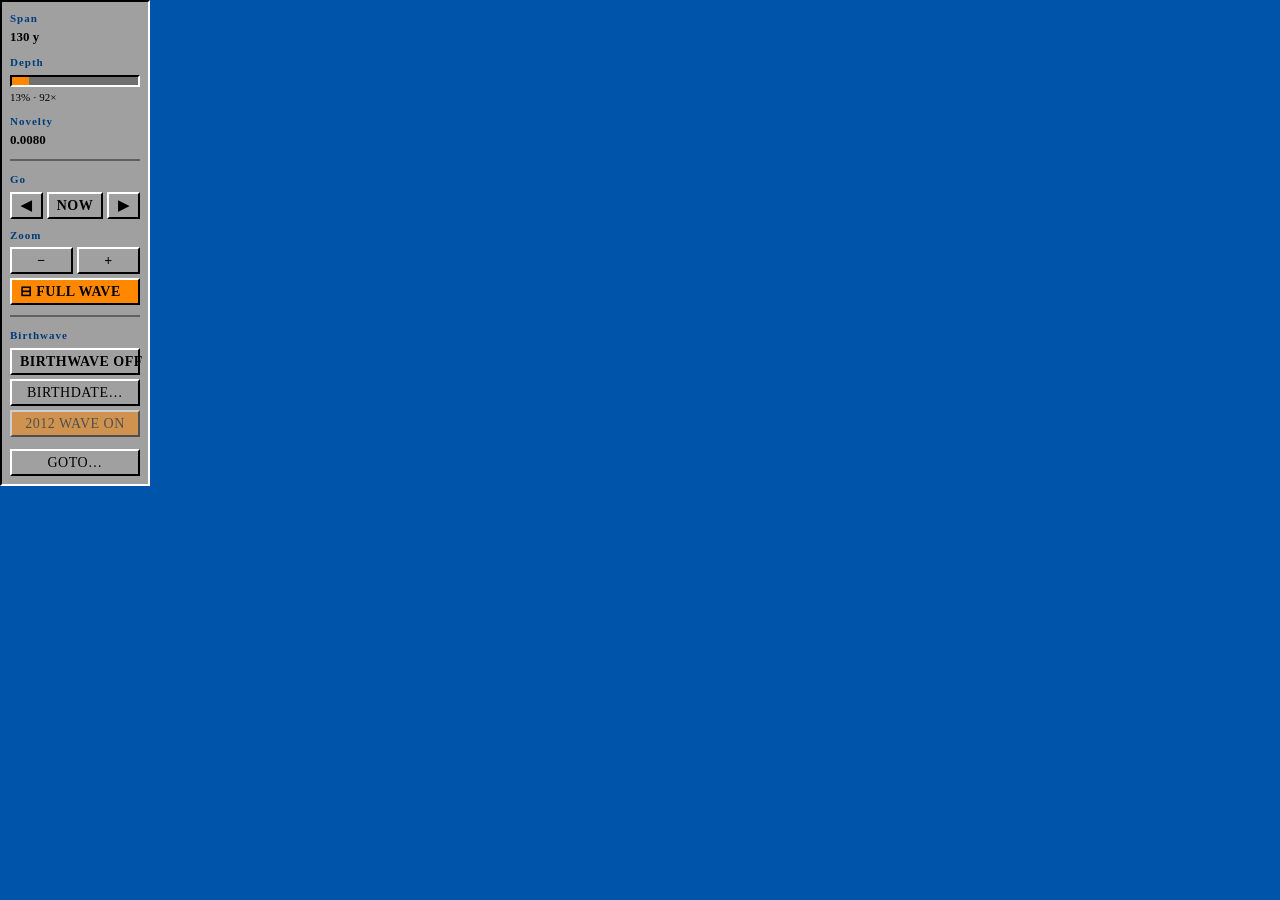
ChartDock birthwave controls › shows the BIRTHWAVE control and opens the picker when no birthday is set
The width and height of the screenshot is (1280, 900).
Expected: the text "Birthwave" is shown, x1=10 y1=329 x2=68 y2=341
Click the button "BIRTHDATE…" at [75, 392], box x1=10 y1=378 x2=140 y2=406
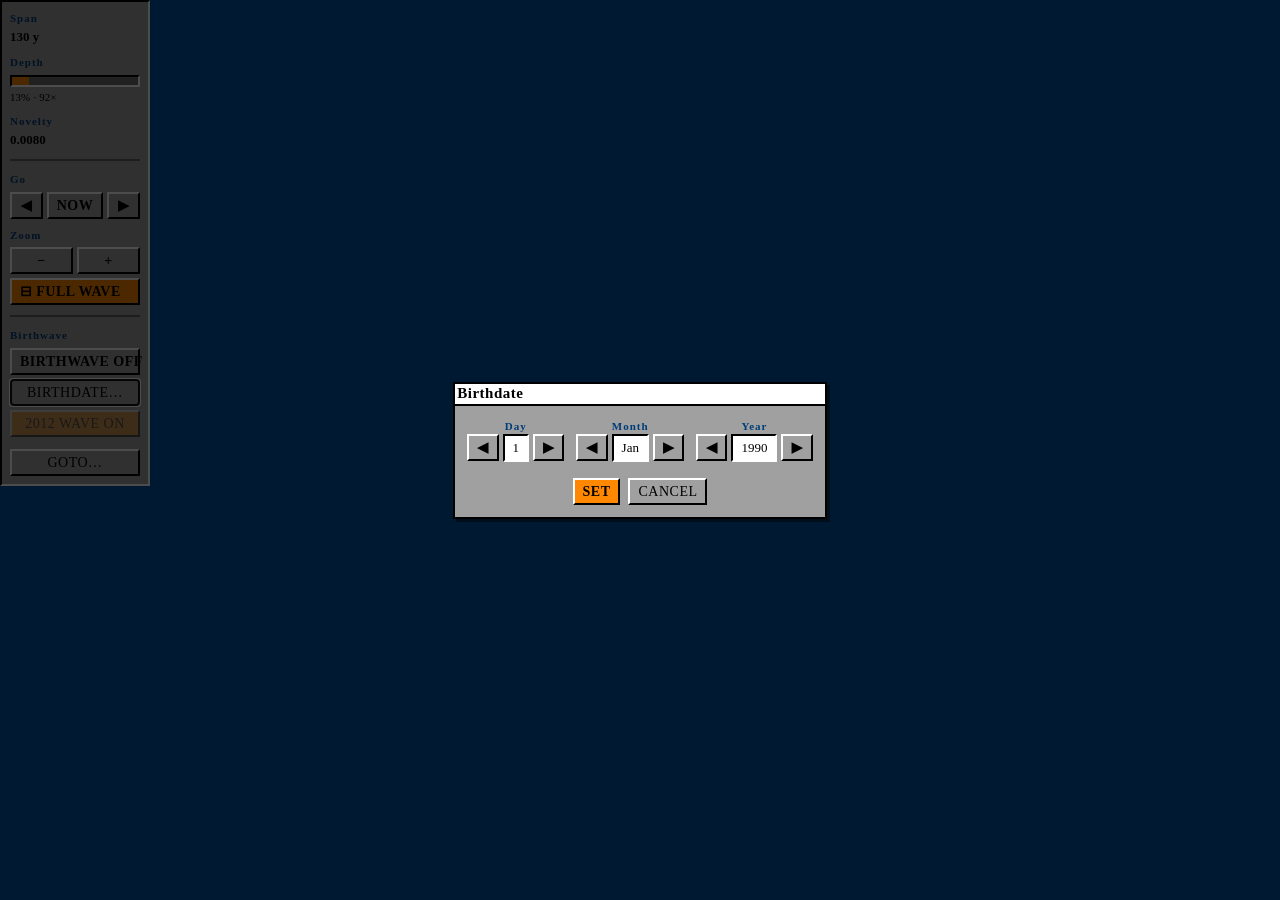
Expected: the dialog "Birthdate" is shown
